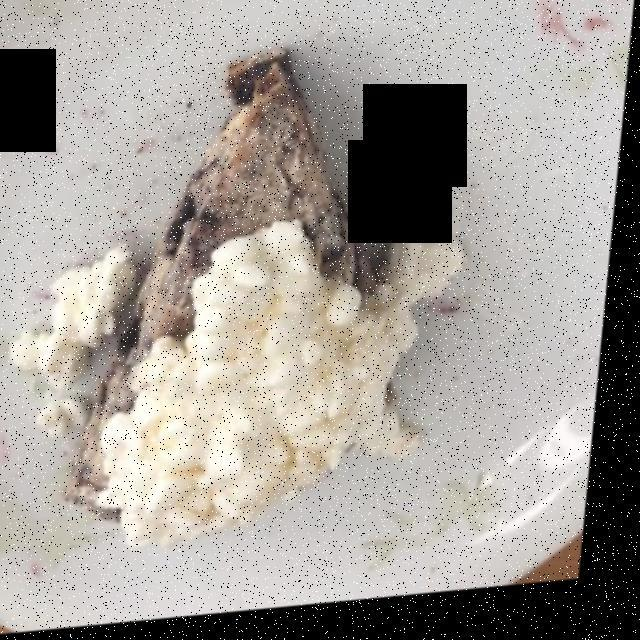blueberries: (130, 51, 299, 373)
cheese: (26, 206, 438, 546)
